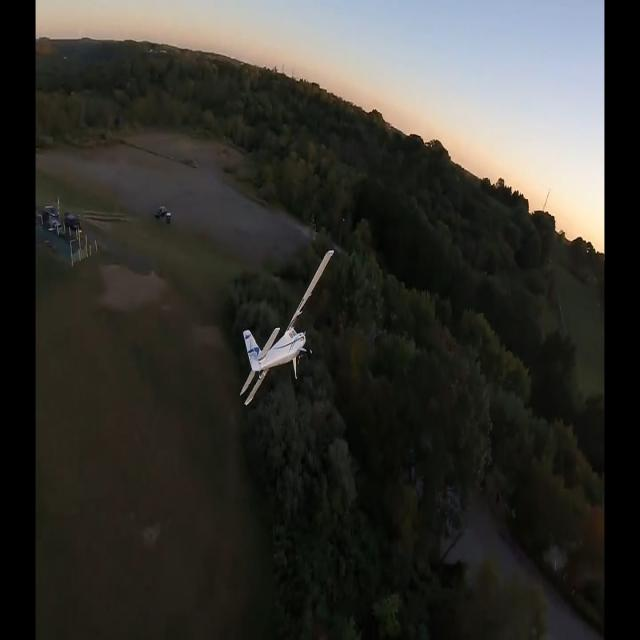iha: (271, 239, 303, 401)
